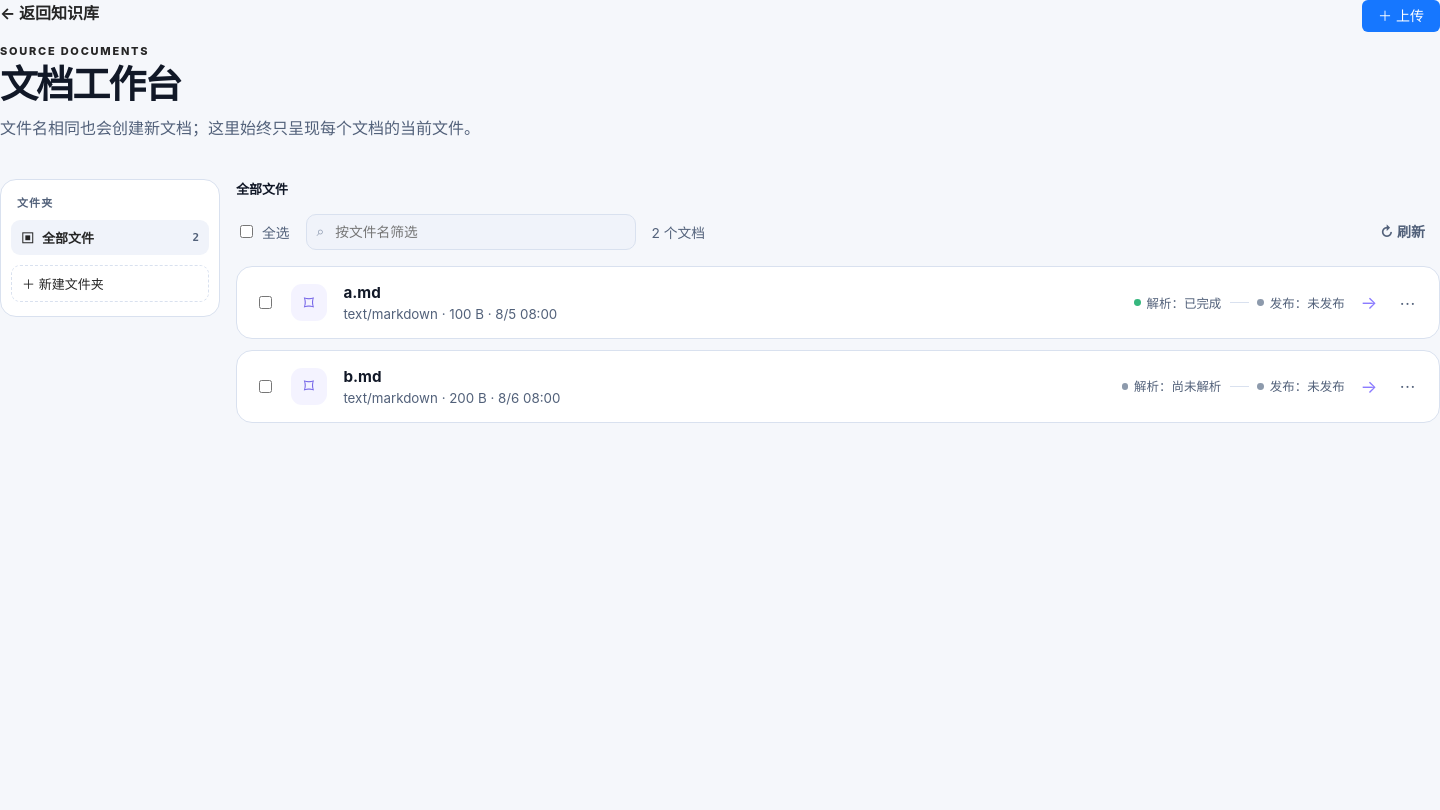
Test: DocumentsView › 批量删除部分失败时显示失败信息
This screenshot has width=1440, height=810.
Click the checkbox with test id "select-all" at [246, 232], box [240,225,253,238]
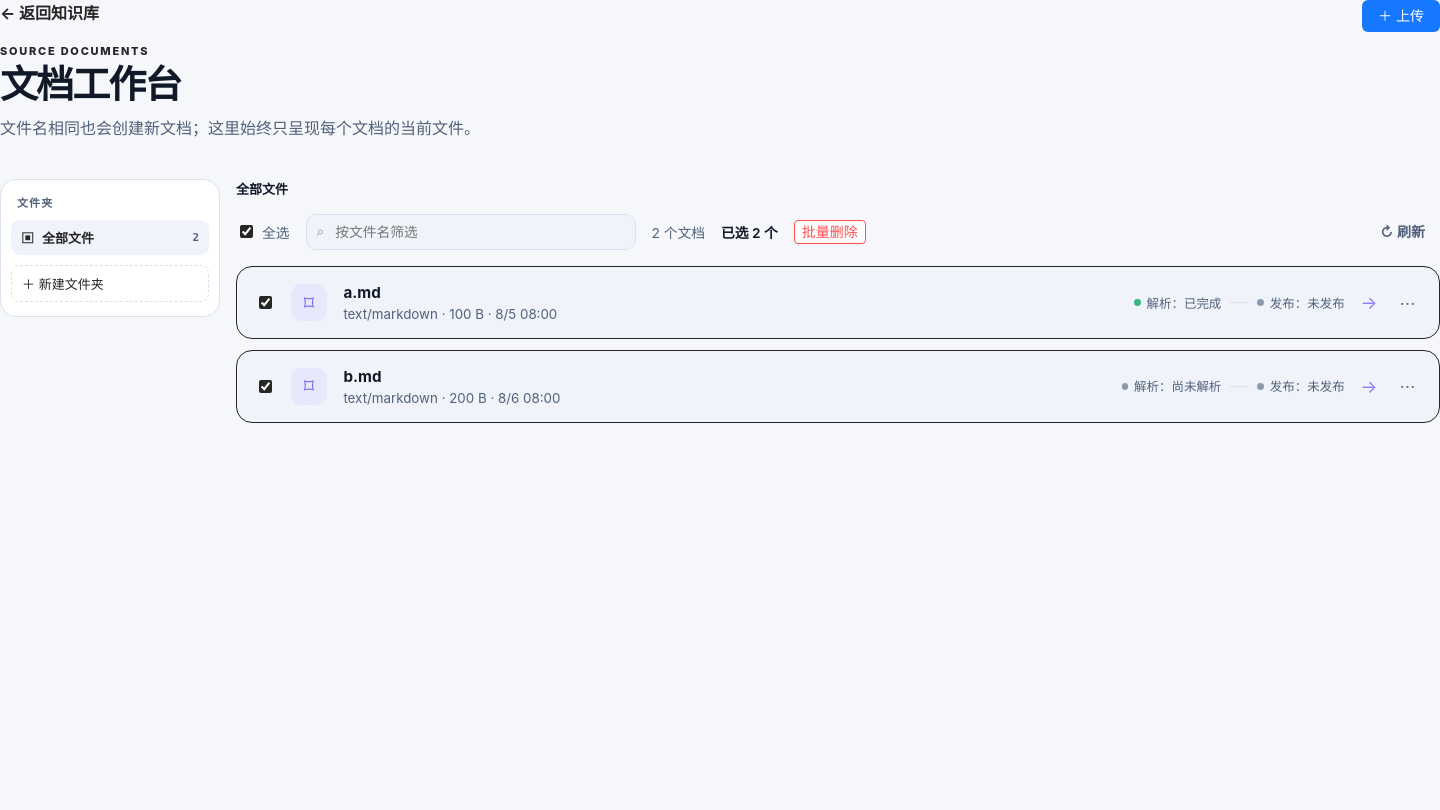
Click the button with test id "batch-delete-btn" at [830, 232], box [794,220,866,244]
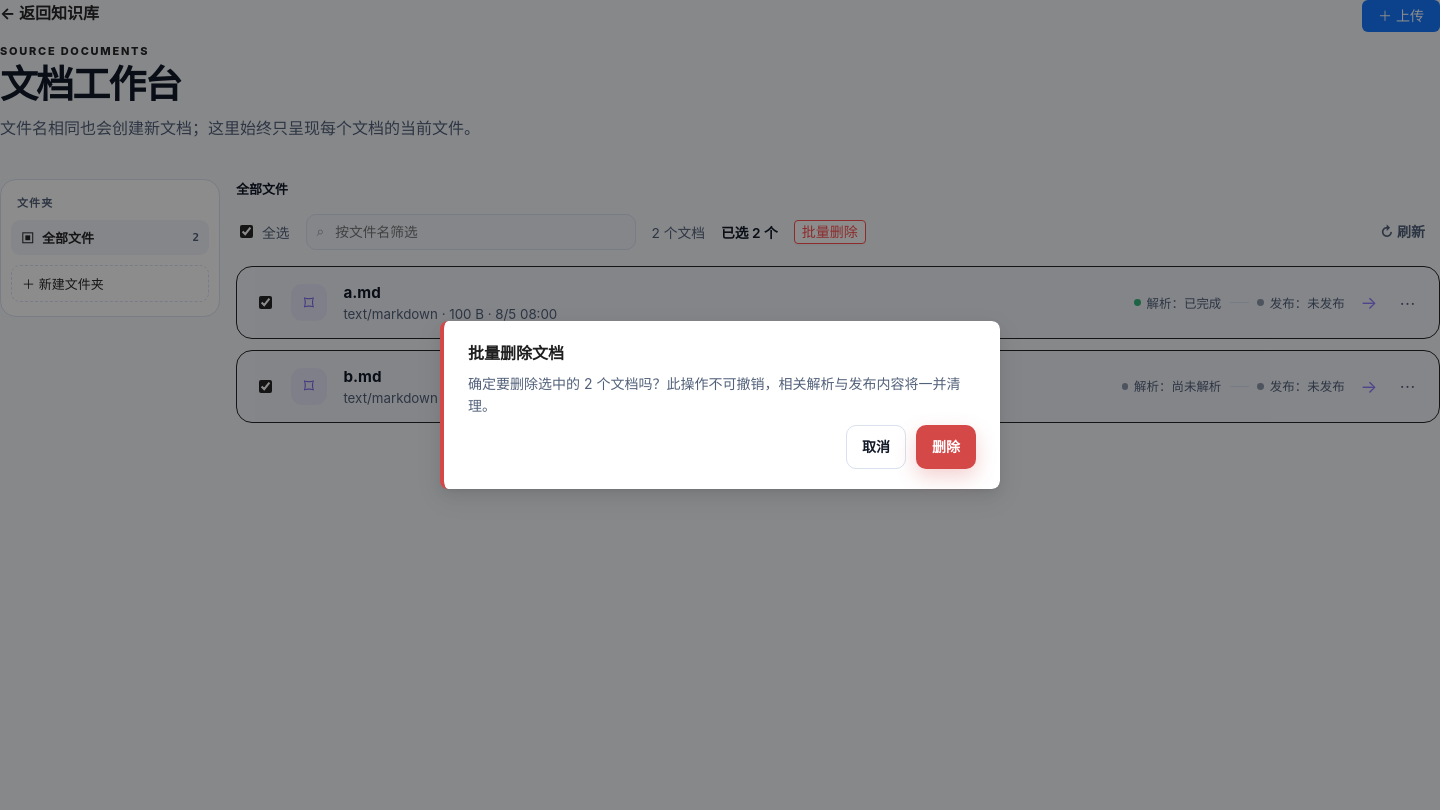
Click the button with test id "confirm-btn" at [946, 447], box [916,425,976,469]
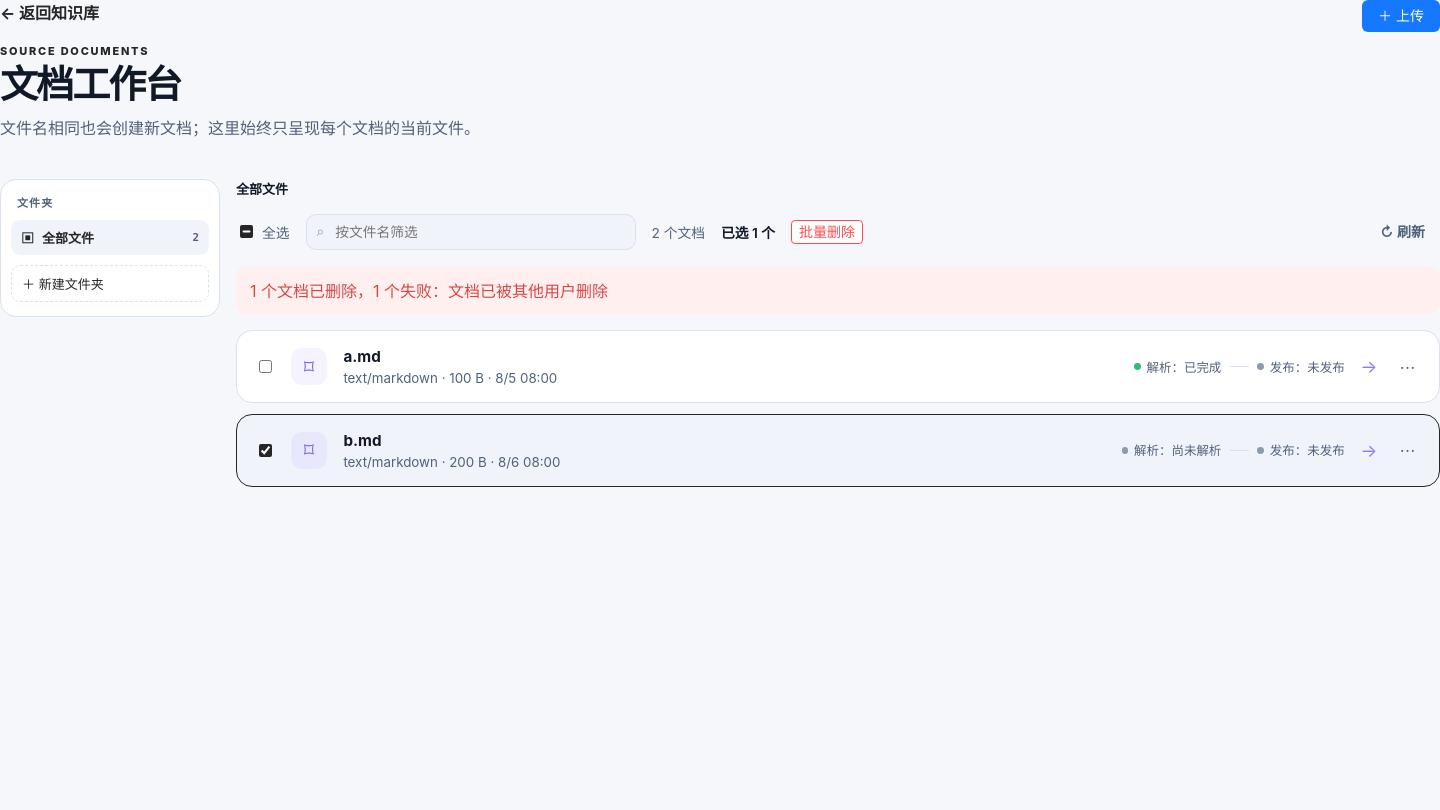
Now the text "失败" is shown, box [236,266,1439,314]
